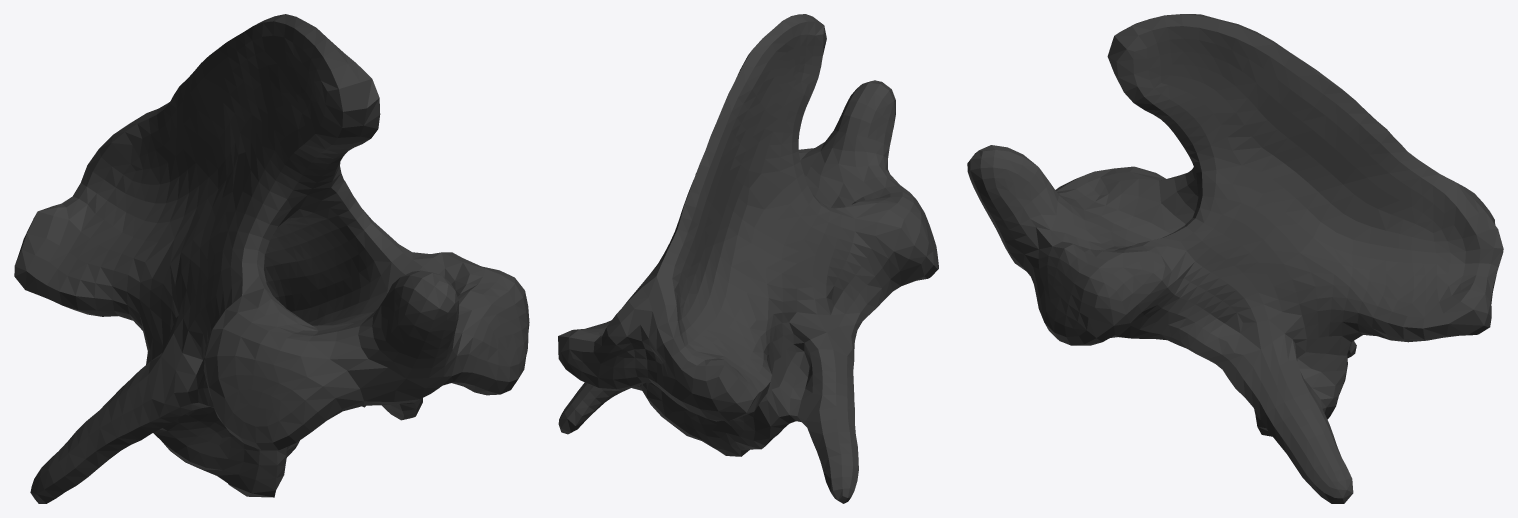
Rendered from C2_Axis.glb.
The picture shows the model from 3 angles, left to right: view 1: azimuth 30°, elevation 25°; view 2: azimuth 150°, elevation 25°; view 3: azimuth 270°, elevation 25°; orthographic projection. The views are drawn at different scales.
Visible parts, largest first — view 1: C2_Axis; view 2: C2_Axis; view 3: C2_Axis.
Boxes of the visible parts, box(x1,y1,x2,y2) form: C2_Axis: box(14, 14, 529, 503); C2_Axis: box(558, 14, 938, 503); C2_Axis: box(967, 14, 1503, 503).
Bounding box in the file's own units: 0.6135 × 0.7952 × 0.9125.
Materials: 1 (1 with a texture image).
